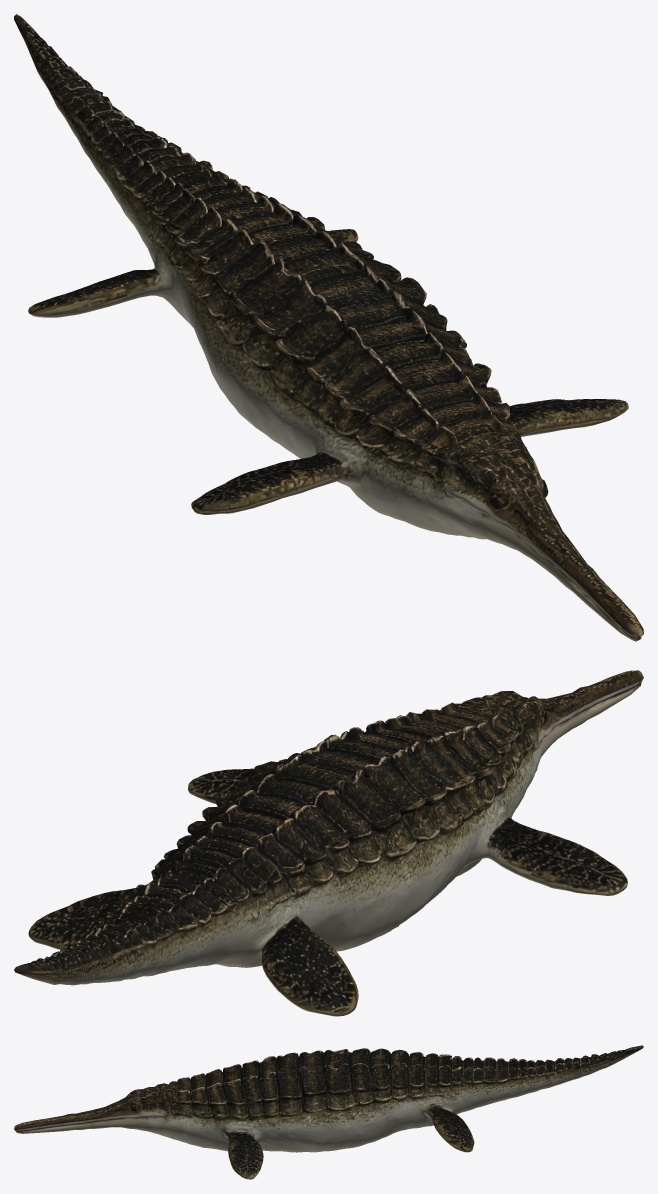
Rendered from hupehsuchus.raw.glb.
The picture shows the model from 3 angles, top to bottom: view 1: azimuth 30°, elevation 25°; view 2: azimuth 150°, elevation 25°; view 3: azimuth 270°, elevation 25°; orthographic projection. The views are drawn at different scales.
Visible parts, largest first — view 1: tripo_node_b7ba49b5-f9ac-4ed5-9f40-f08ec5ad994c; view 2: tripo_node_b7ba49b5-f9ac-4ed5-9f40-f08ec5ad994c; view 3: tripo_node_b7ba49b5-f9ac-4ed5-9f40-f08ec5ad994c.
Boxes of the visible parts, x1,y1,x2,y2 form: tripo_node_b7ba49b5-f9ac-4ed5-9f40-f08ec5ad994c: (14, 14, 643, 641); tripo_node_b7ba49b5-f9ac-4ed5-9f40-f08ec5ad994c: (14, 670, 643, 1016); tripo_node_b7ba49b5-f9ac-4ed5-9f40-f08ec5ad994c: (14, 1045, 643, 1179).
Bounding box in the file's own units: 0.4006 × 0.1777 × 1.
Materials: 1 (1 with a texture image).
